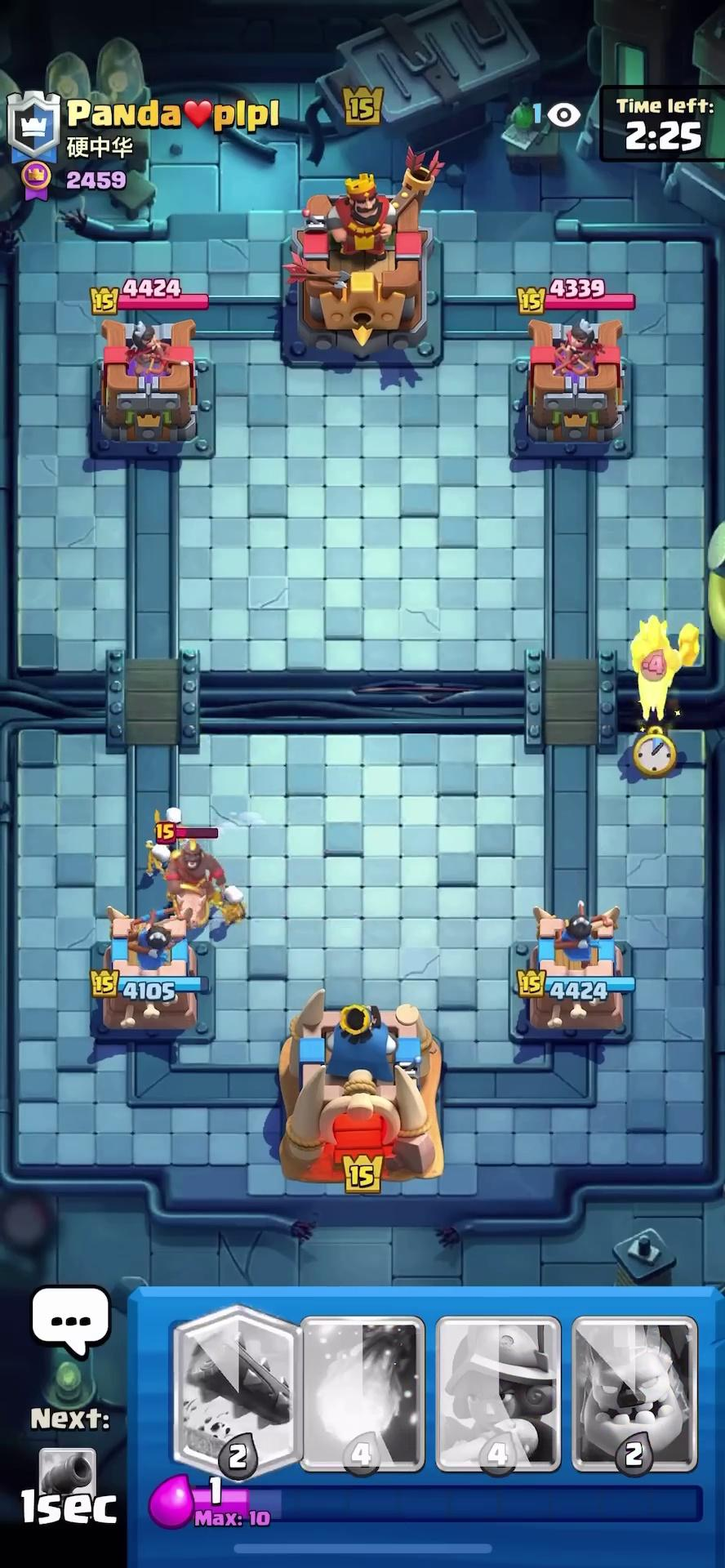hog_rider: (616, 612, 704, 715)
skeletons: (145, 800, 198, 874), (216, 882, 257, 921)
